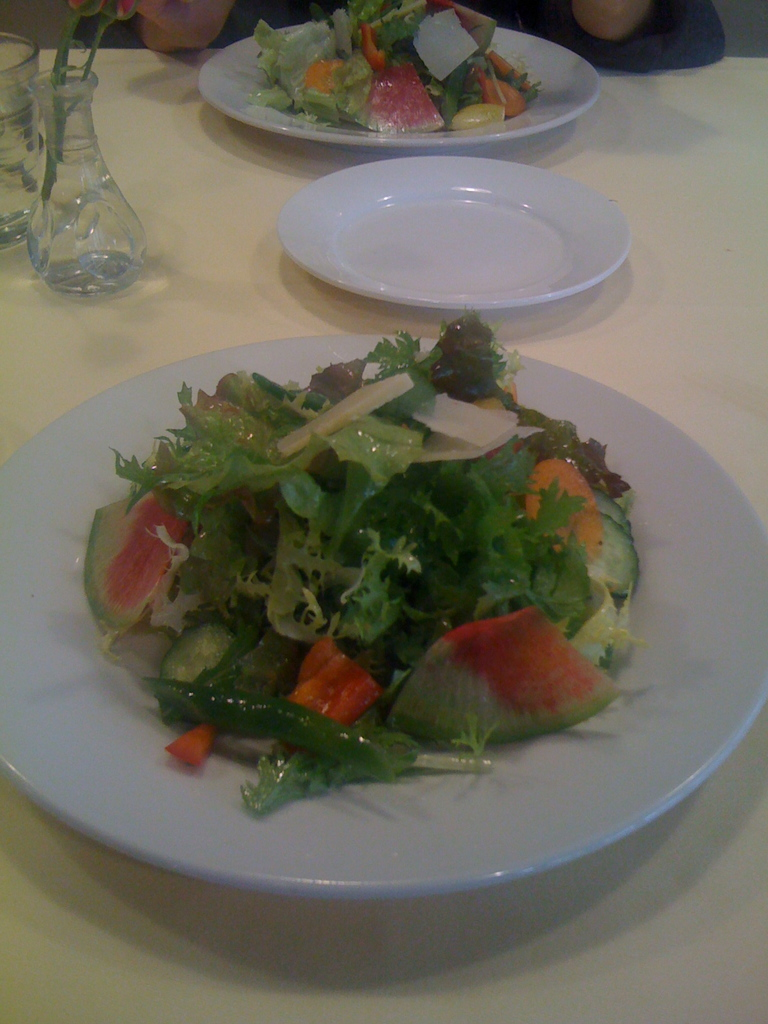salad: (79, 306, 645, 810), (212, 0, 560, 140)
